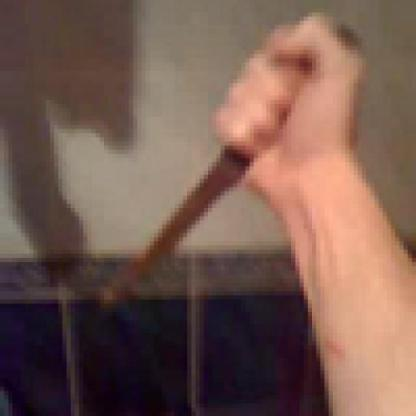Knife: (99, 4, 328, 316)
